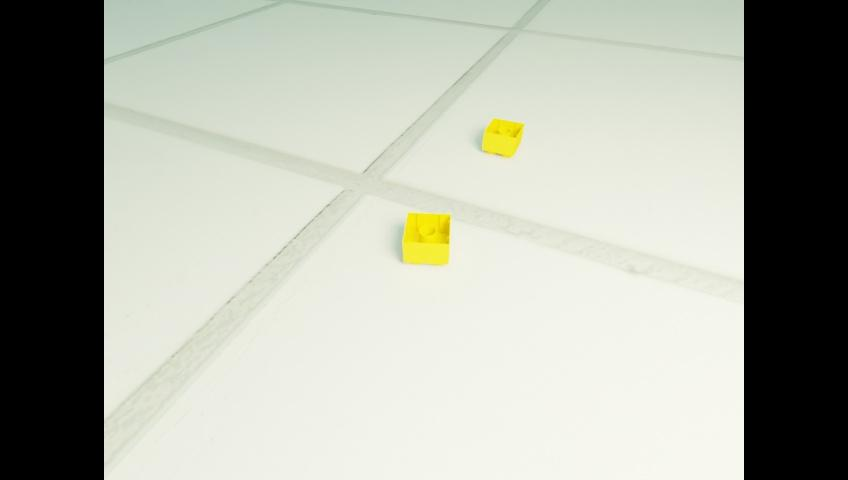2x2_yellow: (403, 213, 451, 267), (482, 117, 523, 157)
